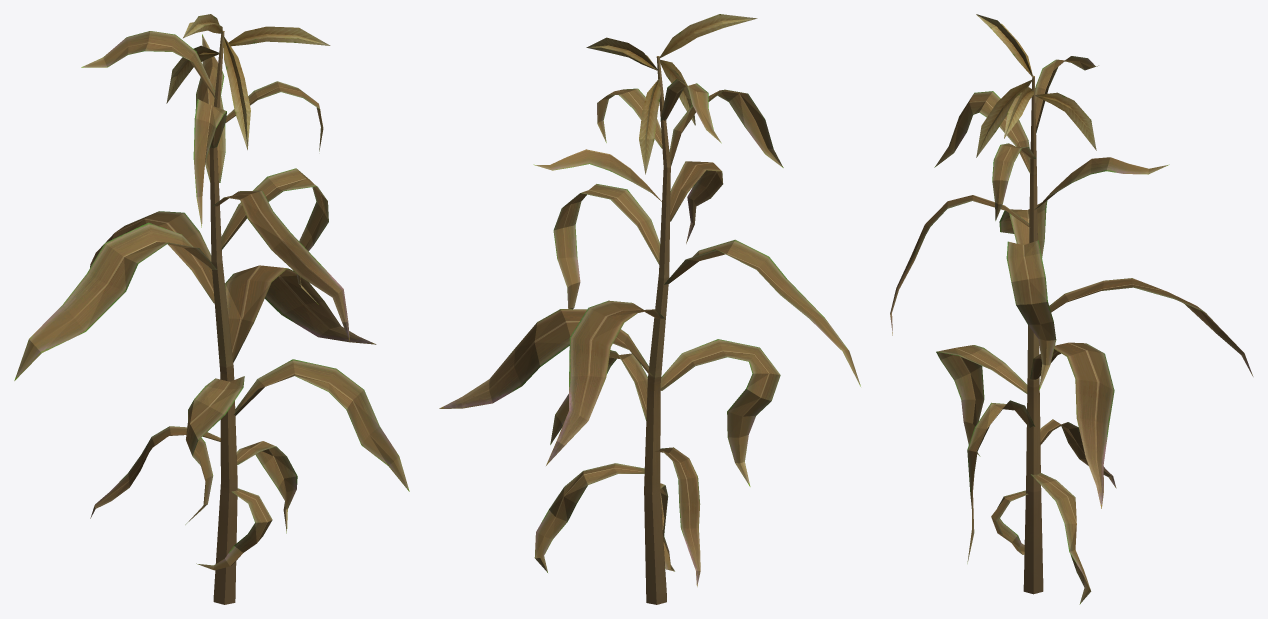
The model's file is P_Herb_00160.obj.
3 views of the same model, side by side, from view 1: azimuth 30°, elevation 25°; view 2: azimuth 150°, elevation 25°; view 3: azimuth 270°, elevation 25° (orthographic). The views are drawn at different scales.
Bounding box in the file's own units: 1.47 × 2.13 × 1.28.
Materials: 1 (1 with a texture image).
